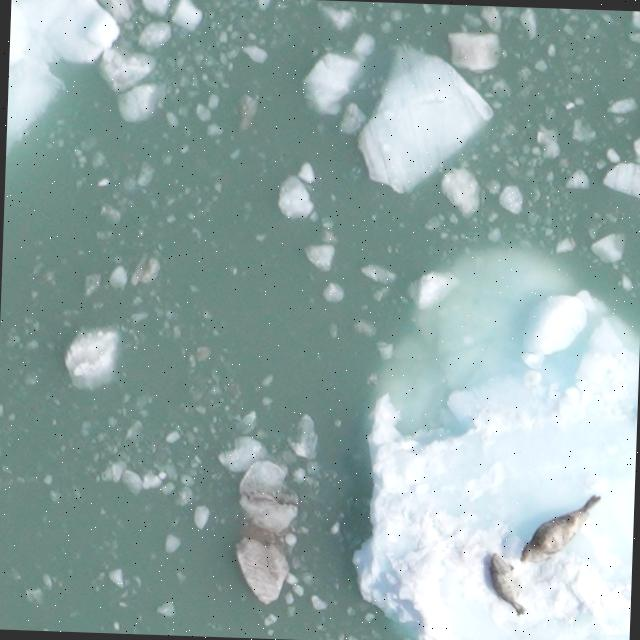seal: (517, 486, 602, 569), (480, 545, 532, 619)
